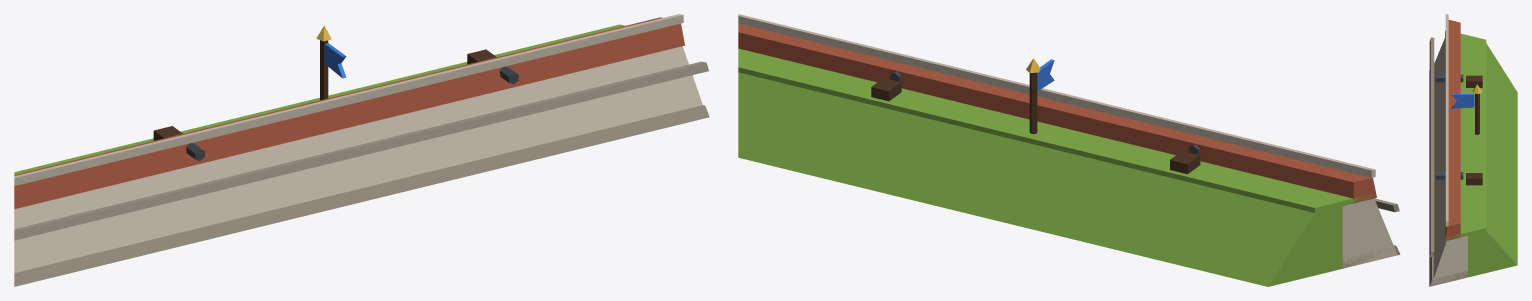
The model's file is wall_seg_2.glb.
The picture shows the model from 3 angles, left to right: view 1: azimuth 30°, elevation 25°; view 2: azimuth 150°, elevation 25°; view 3: azimuth 270°, elevation 25°; orthographic projection. The views are drawn at different scales.
Parts seen in each view (by area): view 1: wall_seg_2; view 2: wall_seg_2; view 3: wall_seg_2.
Boxes of the visible parts, bbox=[...] form: wall_seg_2: bbox=[14, 14, 709, 286]; wall_seg_2: bbox=[738, 14, 1400, 286]; wall_seg_2: bbox=[1429, 14, 1517, 286].
Size of the model in its own units: 1.11 by 0.2272 by 0.192.
